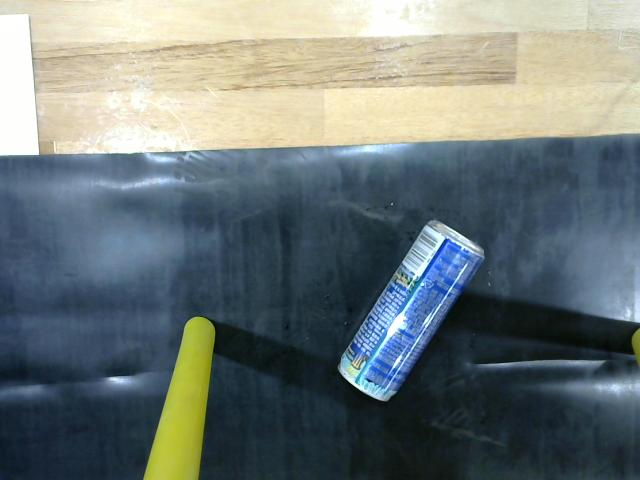can: (325, 209, 501, 415)
